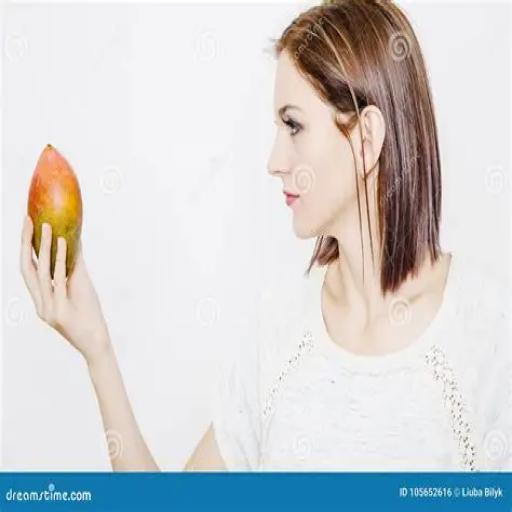mango: (29, 144, 83, 278)
